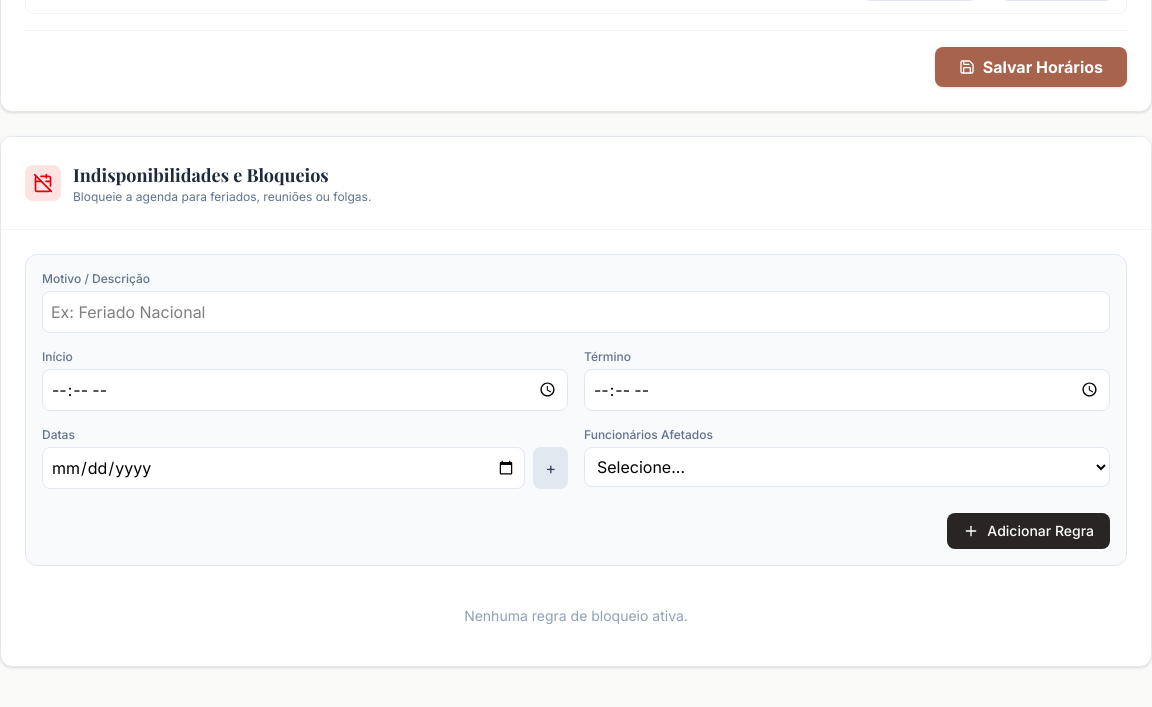
Test: pages/BusinessHoursSettings — regras de indisponibilidade › falha de addUnavailabilityRule mostra toast de erro (não falha em silêncio)
(page scrolled)
In the time field below "Início": coordinates (305, 390) top-left (42, 369), bottom-right (568, 411), type "12:00"
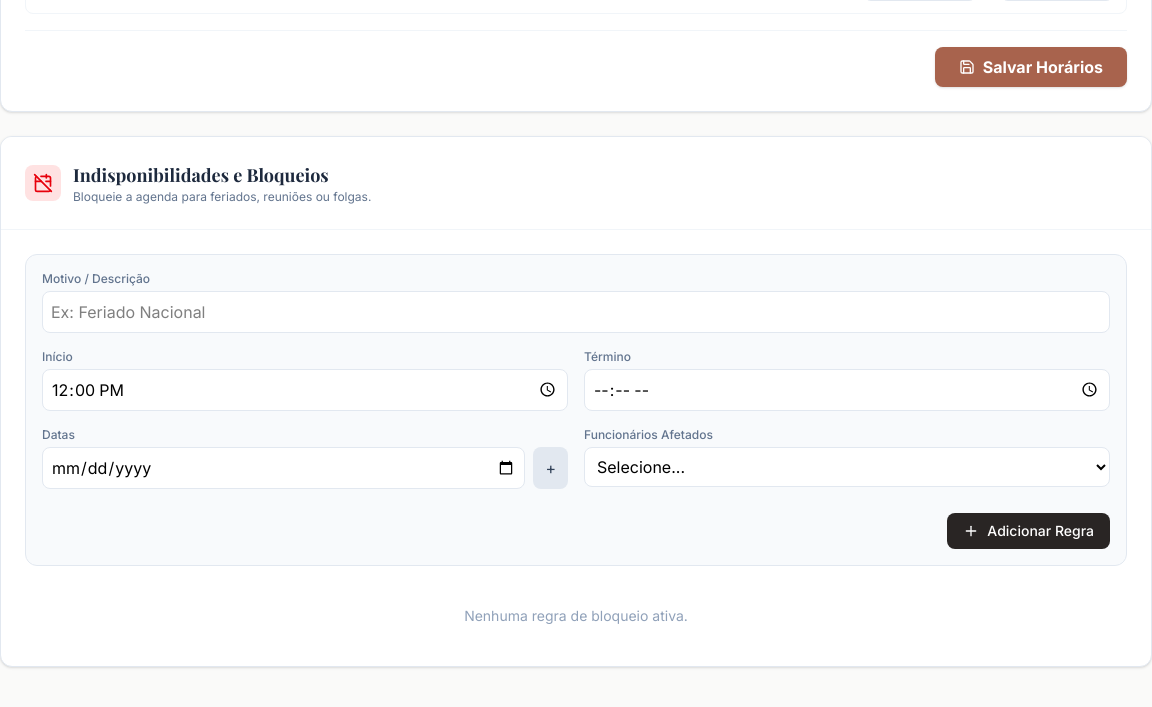
In the time field below "Término": coordinates (847, 390) top-left (584, 369), bottom-right (1110, 411), type "13:00"
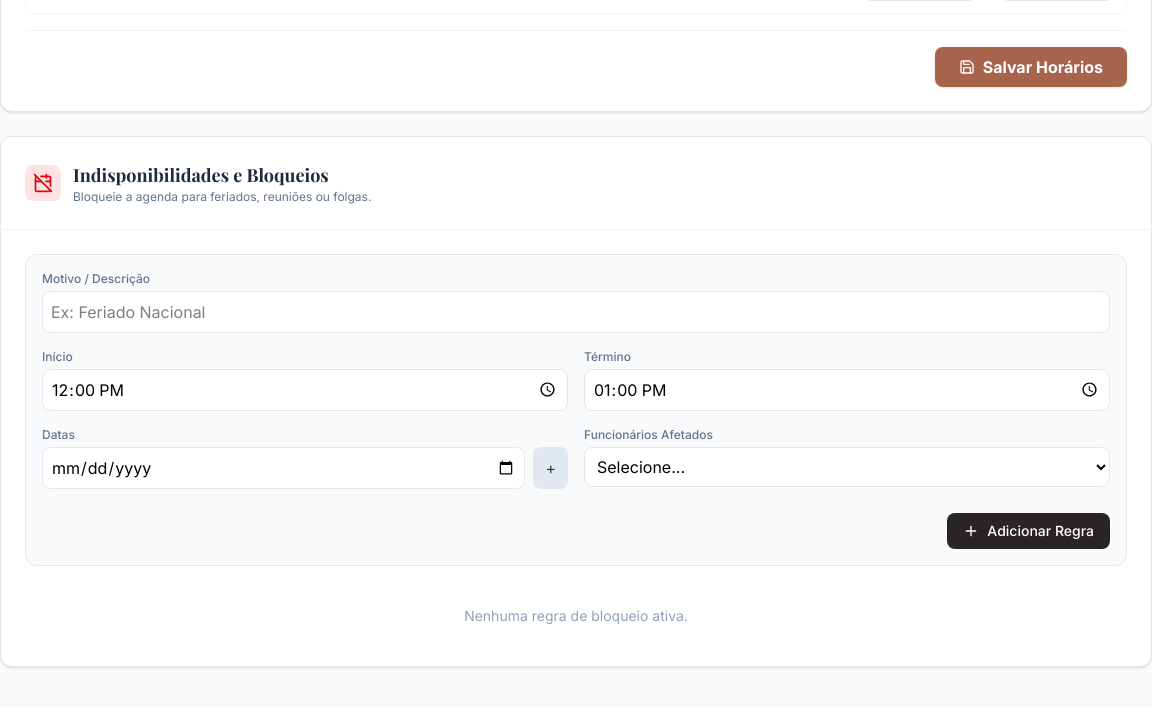
In the date field: coordinates (284, 468) top-left (42, 447), bottom-right (525, 489), type "2026-03-01"
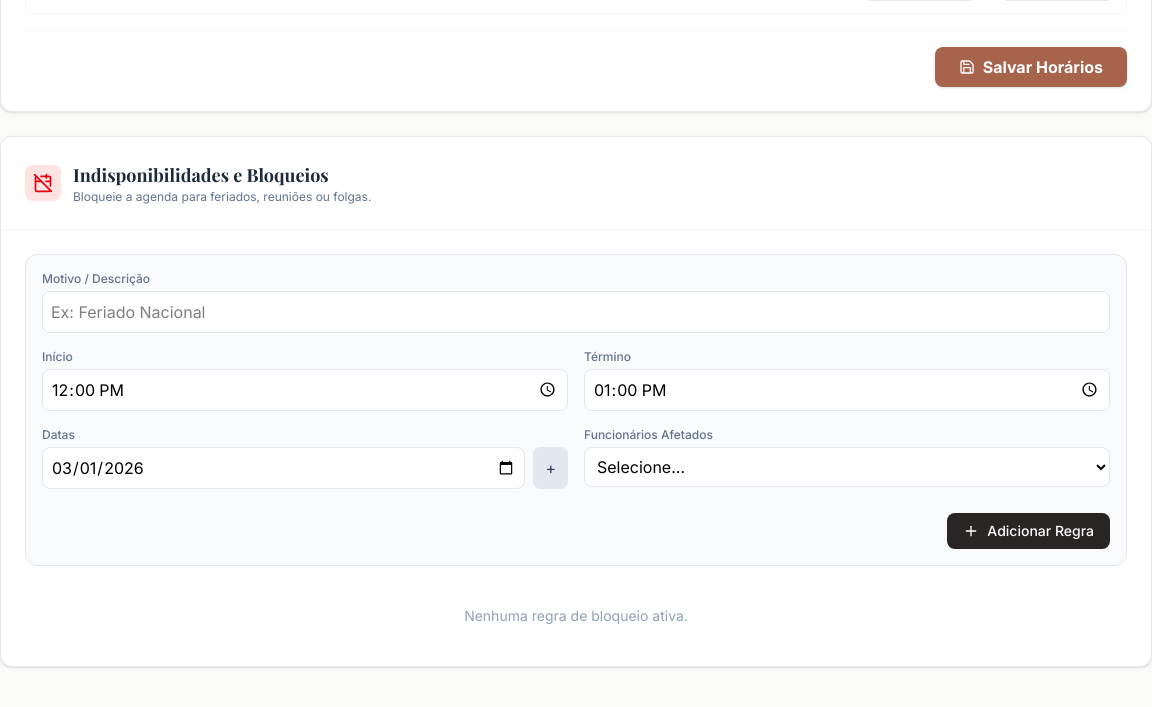
Select "Toda a Equipe" in the dropdown: coordinates (847, 467) top-left (584, 447), bottom-right (1110, 487)
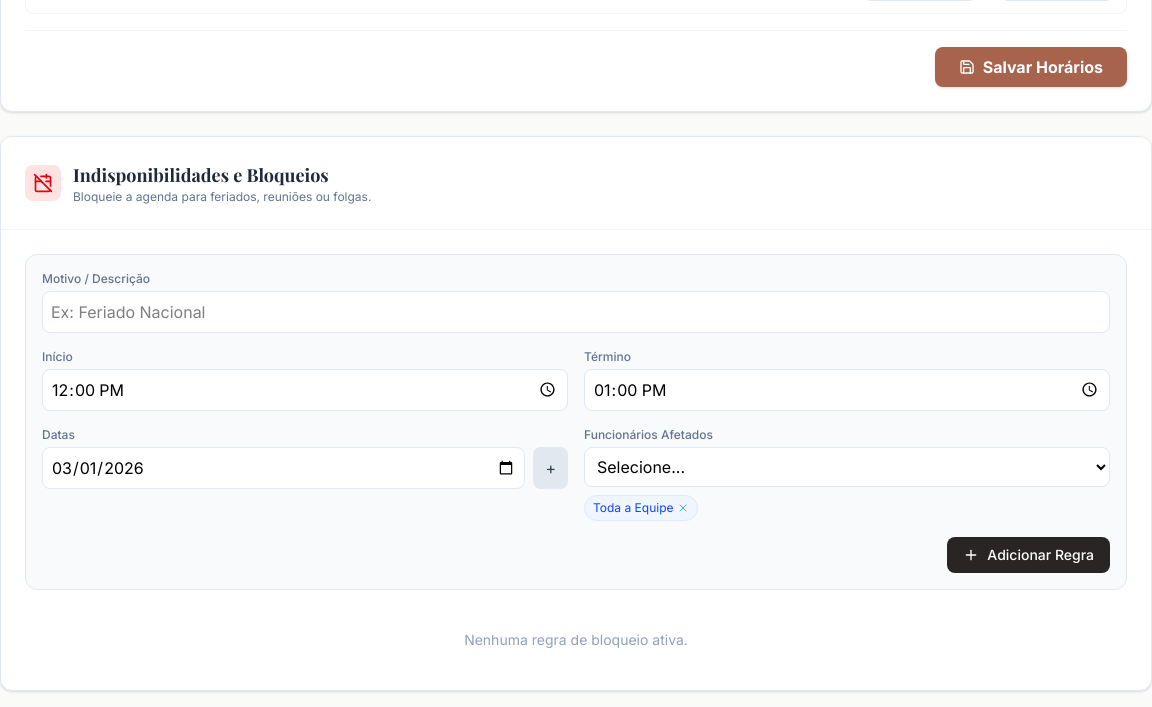
Click the button "Adicionar Regra": coordinates (1029, 555) top-left (947, 537), bottom-right (1110, 573)
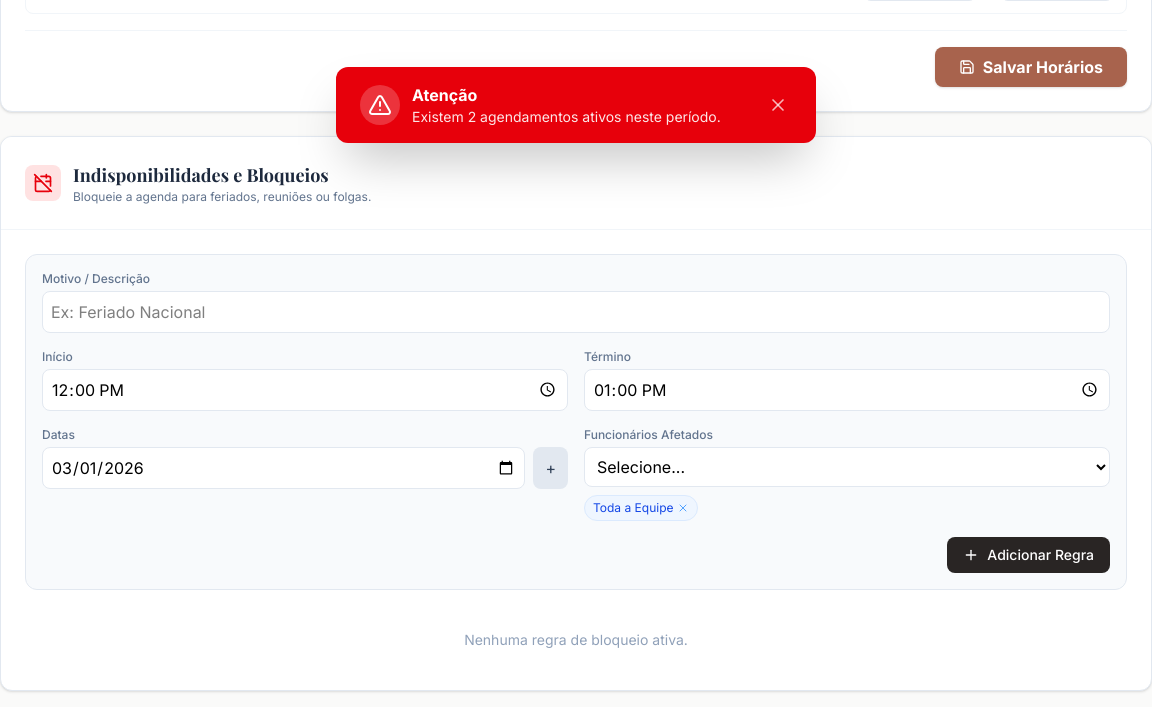
Result: the text "Existem 2 agendamentos ativos neste período." is shown at top-left (412, 107), bottom-right (721, 127)
